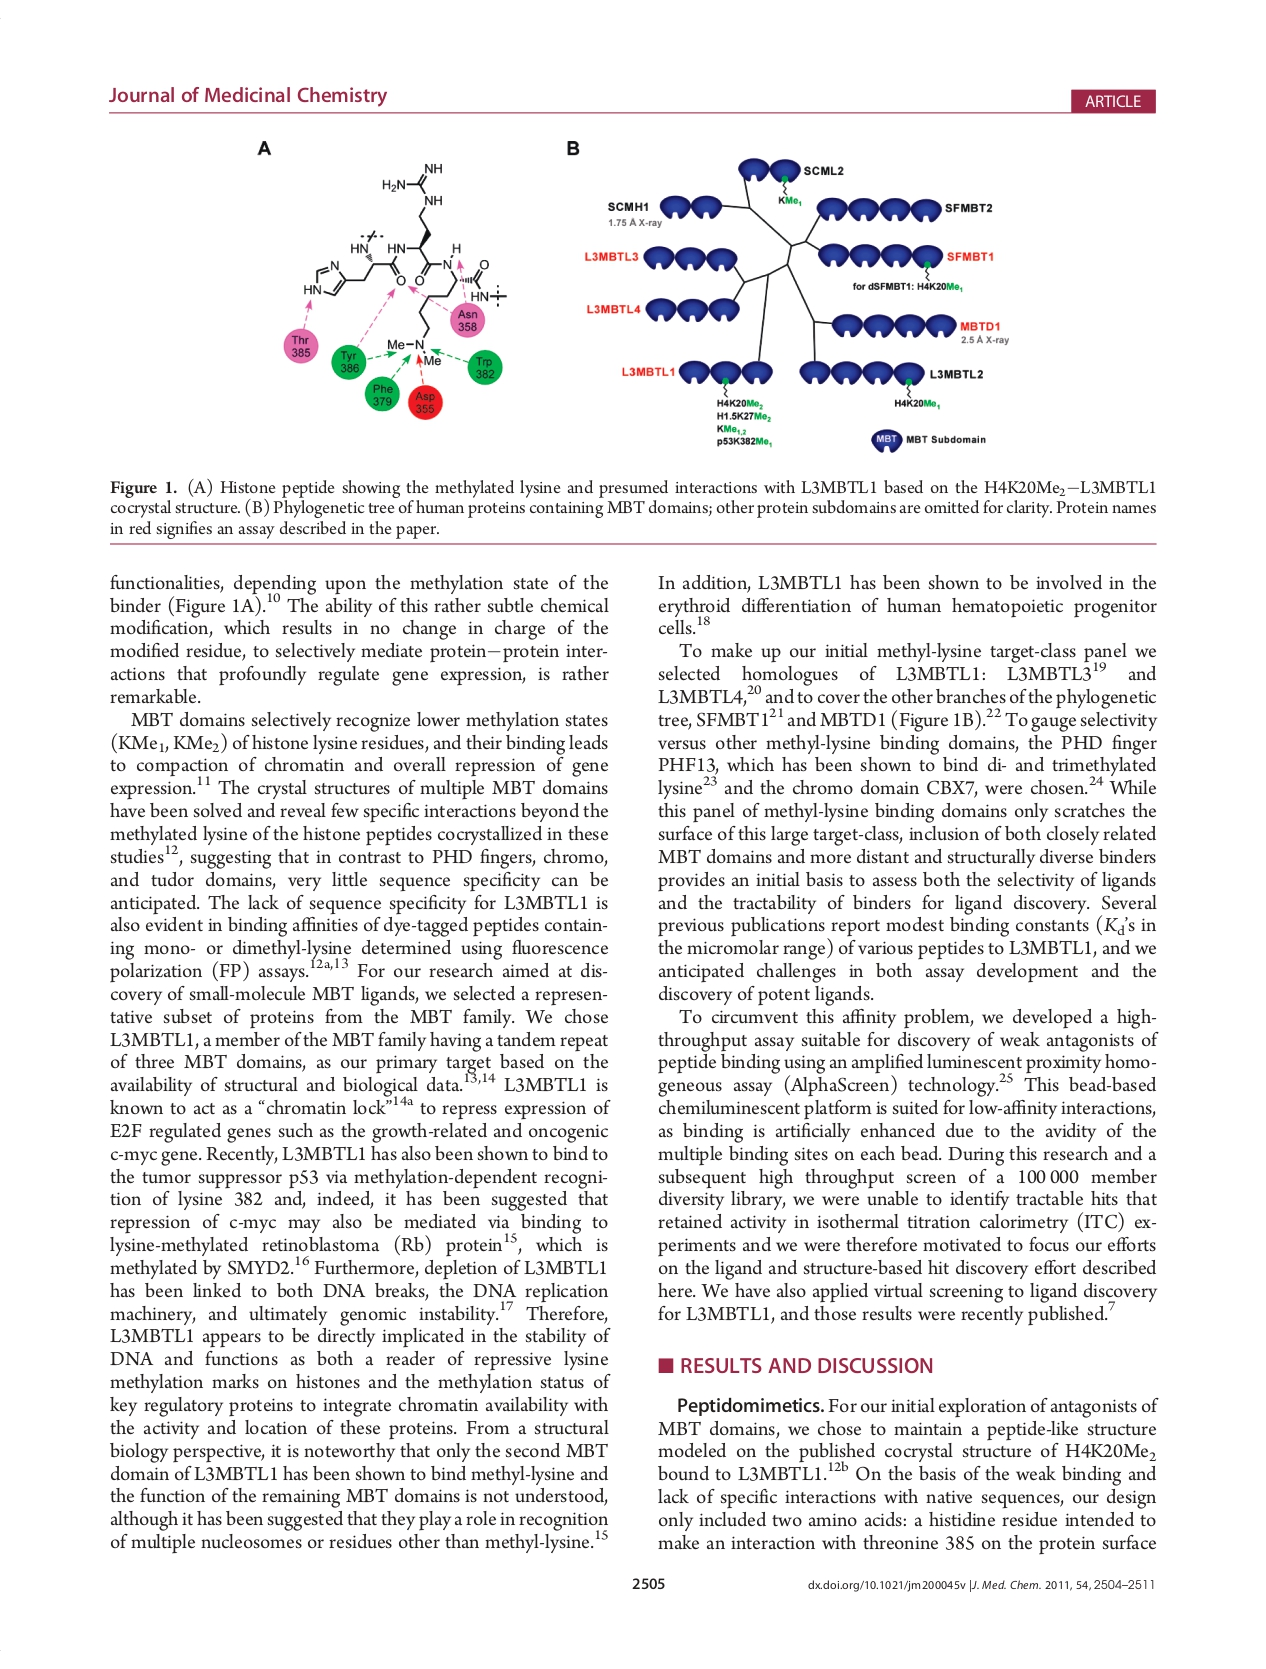exist_molecular: (301, 161, 511, 366)
